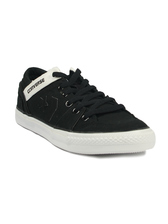shoes: (17, 64, 158, 156)
